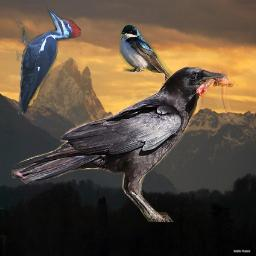Crow: (11, 61, 251, 222)
Swallow: (119, 24, 177, 89)
Woodpecker: (16, 4, 81, 119)
